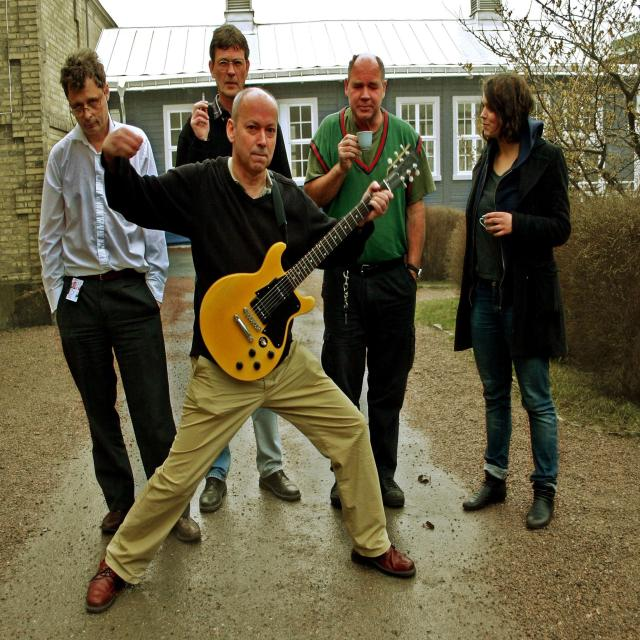guitar: (198, 144, 426, 383)
